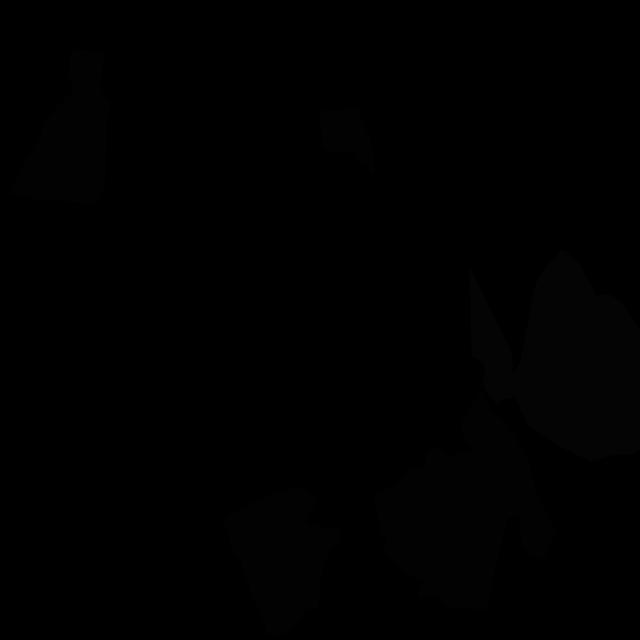cardboard: (374, 392, 558, 611), (224, 485, 342, 635), (10, 49, 112, 204), (320, 109, 375, 176)
soft_plastic: (470, 249, 640, 461)
